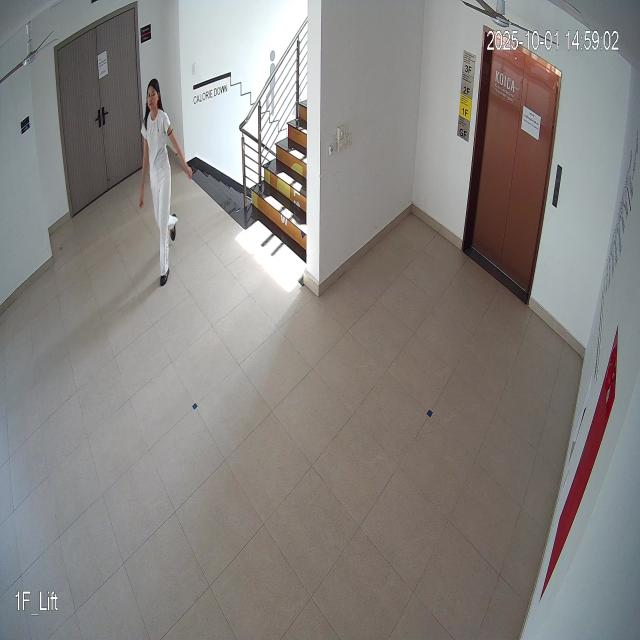face: (143, 74, 162, 120)
